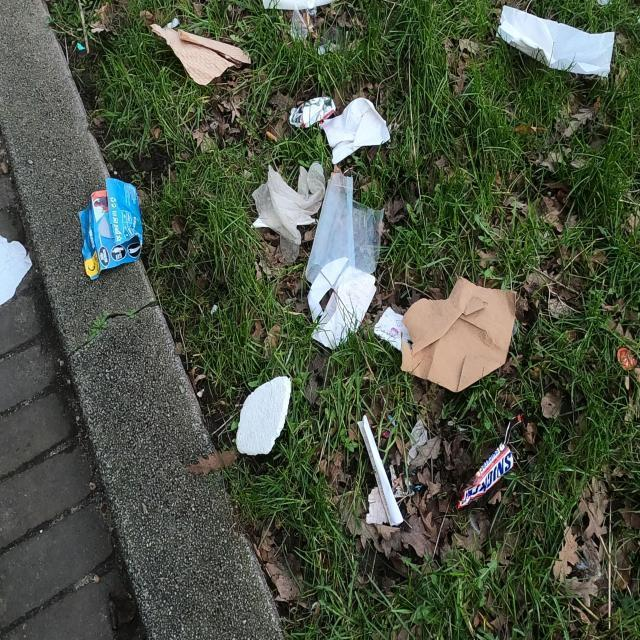Paper: (496, 3, 616, 78), (250, 162, 326, 264), (148, 23, 242, 86), (310, 264, 376, 350), (356, 413, 404, 528), (318, 96, 391, 164), (178, 28, 252, 66), (0, 234, 33, 308), (407, 418, 428, 466)
Plastic: (77, 178, 143, 280), (457, 441, 514, 509), (289, 95, 335, 128)
